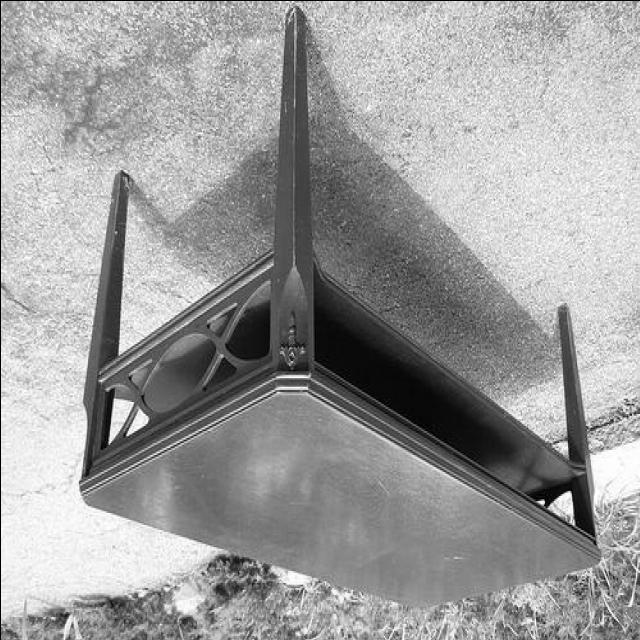table: (77, 10, 602, 610)
